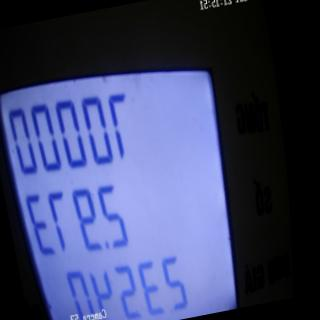screen: (0, 32, 262, 320)
